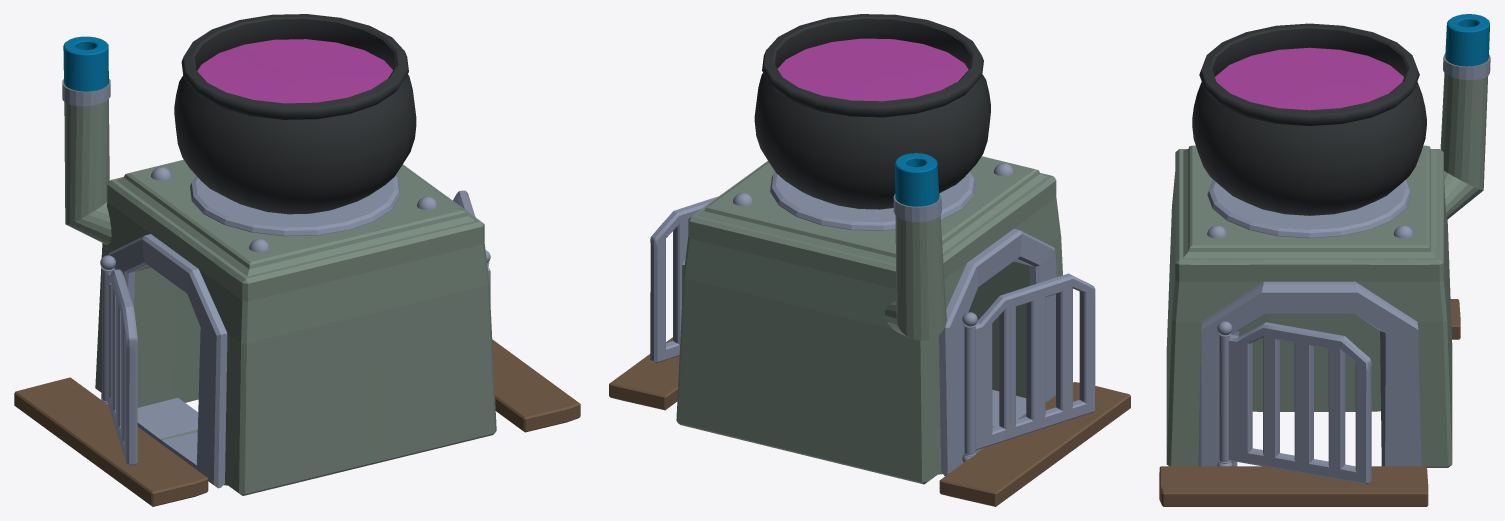
The model's file is Furnace_Scaled.fbx.
3 views of the same model, side by side, from view 1: azimuth 30°, elevation 25°; view 2: azimuth 150°, elevation 25°; view 3: azimuth 270°, elevation 25° (orthographic). The views are drawn at different scales.
Visible parts, largest first — view 1: pSphere13, pSphere12, pSphere6; view 2: pSphere13, pSphere12, pSphere6, pSphere7; view 3: pSphere13, pSphere12, pSphere7.
Boxes of the visible parts, x1=… form: pSphere13: x1=14, y1=36, x2=580, y2=506; pSphere12: x1=174, y1=14, x2=416, y2=214; pSphere6: x1=100, y1=255, x2=137, y2=465; pSphere13: x1=609, y1=153, x2=1130, y2=506; pSphere12: x1=754, y1=14, x2=990, y2=209; pSphere6: x1=962, y1=273, x2=1095, y2=462; pSphere7: x1=650, y1=196, x2=718, y2=363; pSphere13: x1=1159, y1=14, x2=1490, y2=506; pSphere12: x1=1192, y1=23, x2=1426, y2=215; pSphere7: x1=1217, y1=321, x2=1371, y2=484.
Bounding box in the file's own units: 196 × 161 × 141.
